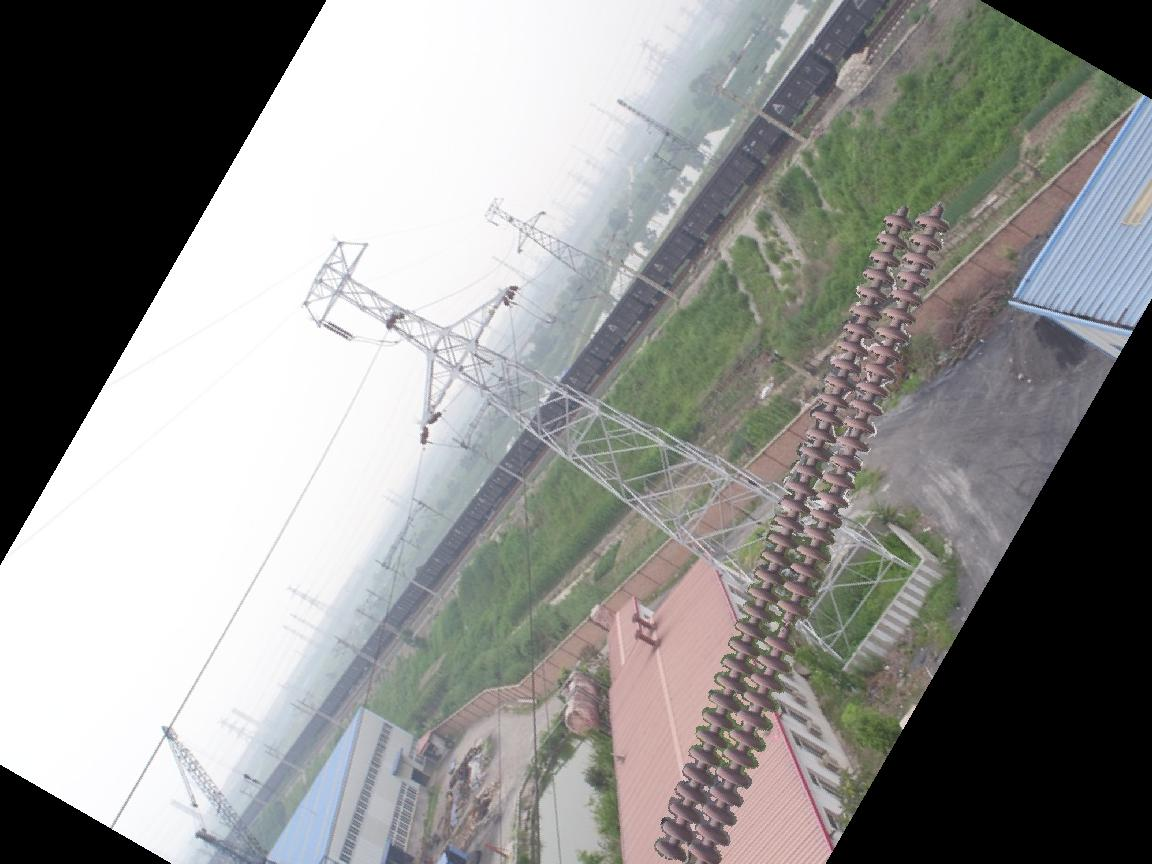insulator: (646, 203, 954, 864)
insulator_stringdrop: (760, 594, 816, 660)
